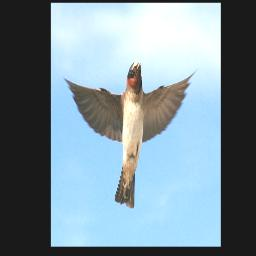Swallow: (63, 60, 199, 209)
